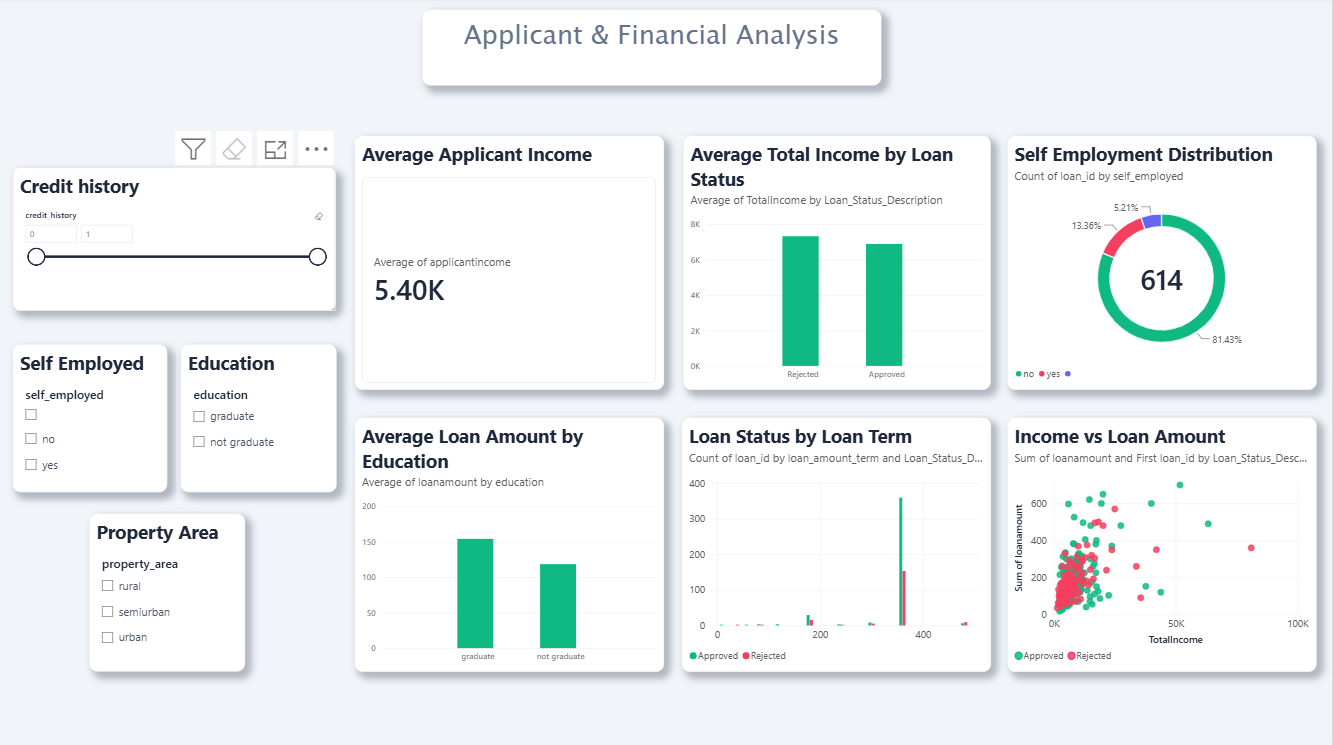

The dashboard page shown, as its layout file describes it:
{"tool":"powerbi","page":{"name":"Applicant & Financial Analysis","canvas":[1920,1080],"ordinal":1},"visuals":[{"type":"textbox","box":[613.3,20.4,661,109],"z":0},{"type":"scatterChart","title":"Income vs Loan Amount","fields":{"Series":["dataset.Loan_Status_Description"],"X":["dataset.TotalIncome"],"Y":["Sum(dataset.loanamount)"]},"box":[1453.6,606.4,445.2,365.7],"z":1},{"type":"clusteredColumnChart","title":"Average Loan Amount by Education","fields":{"Category":["dataset.education"],"Y":["Avg(dataset.loanamount)"]},"box":[515.6,606.4,445,366],"z":2},{"type":"clusteredColumnChart","title":"Average Total Income by Loan Status","fields":{"Category":["dataset.Loan_Status_Description"],"Y":["Avg(dataset.TotalIncome)"]},"box":[988,199.9,442.9,365.7],"z":3},{"type":"clusteredColumnChart","title":"Loan Status by Loan Term","fields":{"Category":["dataset.loan_amount_term"],"Series":["dataset.Loan_Status_Description"],"Y":["CountNonNull(dataset.loan_id)"]},"box":[985.7,606.4,445.2,365.7],"z":4},{"type":"donutChart","title":"Self Employment Distribution","fields":{"Category":["dataset.self_employed"],"Y":["CountNonNull(dataset.loan_id)"]},"box":[1453.6,199.9,445.2,365.7],"z":5},{"type":"cardVisual","title":"Average Applicant Income","fields":{"Data":["Avg(dataset.applicantincome)"]},"box":[515.6,199.9,445.2,365.7],"z":6},{"type":"slicer","title":"Self Employed","fields":{"Values":["dataset.self_employed"]},"box":[22.7,499.7,222.6,213.5],"z":7},{"type":"slicer","title":"Credit history","fields":{"Values":["dataset.credit_history"]},"box":[22.7,245.3,465.6,206.7],"z":8},{"type":"slicer","title":"Education","fields":{"Values":["dataset.education"]},"box":[265.7,499.7,224.9,213.5],"z":9},{"type":"slicer","title":"Property Area","fields":{"Values":["dataset.property_area"]},"box":[134,745,224.9,227.1],"z":10}]}

Visuals, with their boxes in screenshot pixels (x1, y1, x2, y2), scaled from the page's 1920x1080 canvas onto the 1333x745 screenshot:
textbox: {"x1": 426, "y1": 14, "x2": 885, "y2": 89}
"Income vs Loan Amount" scatterChart: {"x1": 1009, "y1": 418, "x2": 1318, "y2": 671}
"Average Loan Amount by Education" clusteredColumnChart: {"x1": 358, "y1": 418, "x2": 667, "y2": 671}
"Average Total Income by Loan Status" clusteredColumnChart: {"x1": 686, "y1": 138, "x2": 993, "y2": 390}
"Loan Status by Loan Term" clusteredColumnChart: {"x1": 684, "y1": 418, "x2": 993, "y2": 671}
"Self Employment Distribution" donutChart: {"x1": 1009, "y1": 138, "x2": 1318, "y2": 390}
"Average Applicant Income" cardVisual: {"x1": 358, "y1": 138, "x2": 667, "y2": 390}
"Self Employed" slicer: {"x1": 16, "y1": 345, "x2": 170, "y2": 492}
"Credit history" slicer: {"x1": 16, "y1": 169, "x2": 339, "y2": 312}
"Education" slicer: {"x1": 184, "y1": 345, "x2": 341, "y2": 492}
"Property Area" slicer: {"x1": 93, "y1": 514, "x2": 249, "y2": 671}
